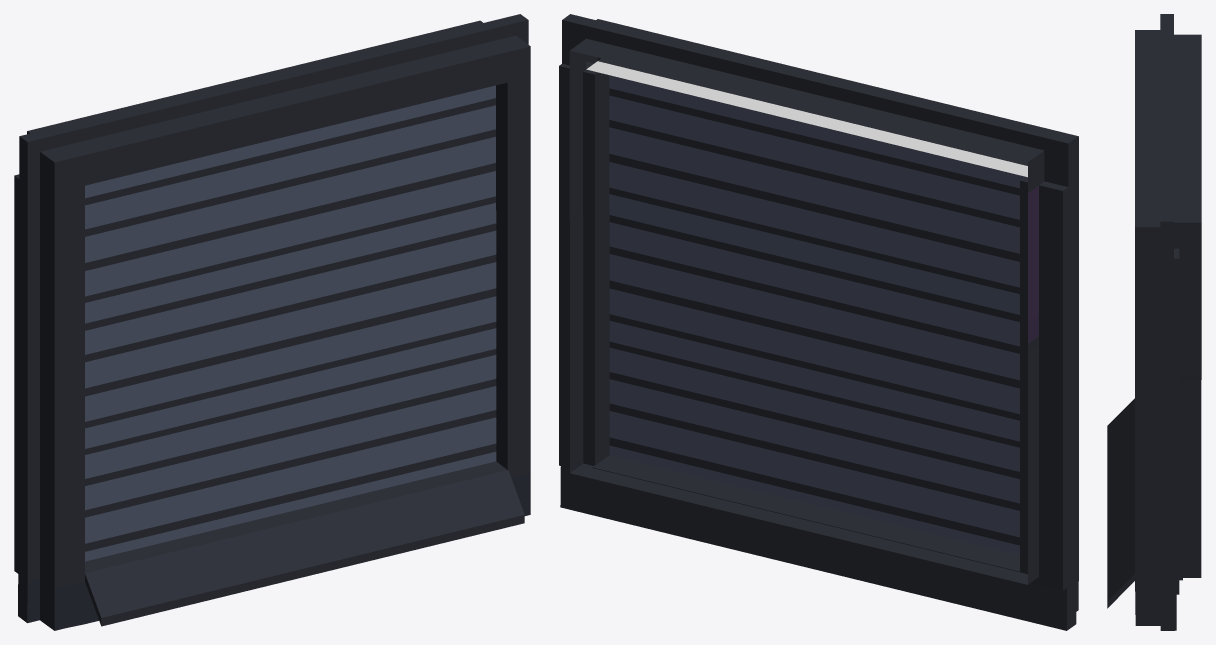
File: Building_GarageDoor_FullAddon.fbx
3 views of the same model, side by side, from view 1: azimuth 30°, elevation 25°; view 2: azimuth 150°, elevation 25°; view 3: azimuth 270°, elevation 25° (orthographic). The views are drawn at different scales.
Parts seen in each view (by area): view 1: GarageDoor_FullAddon; view 2: GarageDoor_FullAddon; view 3: GarageDoor_FullAddon.
Part boxes in pixels (left/top/right/bottom): GarageDoor_FullAddon: left=14, top=14, right=530, bottom=630; GarageDoor_FullAddon: left=559, top=14, right=1078, bottom=630; GarageDoor_FullAddon: left=1107, top=14, right=1201, bottom=630.
Size of the model in its own units: 292 by 268 by 55.89.
